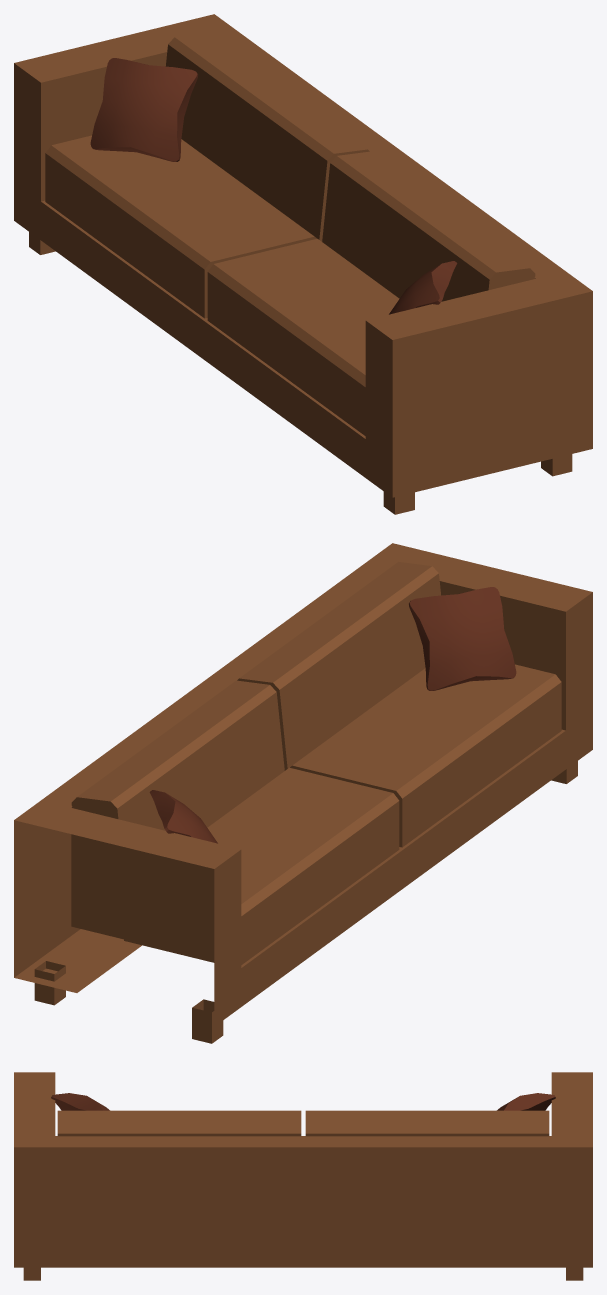
Rendered from Couch.fbx.
3 renders of one model, top to bottom at view 1: azimuth 30°, elevation 25°; view 2: azimuth 150°, elevation 25°; view 3: azimuth 270°, elevation 25°, orthographic. The views are drawn at different scales.
Parts seen in each view (by area): view 1: Couch; view 2: Couch; view 3: Couch.
Part boxes in pixels (<box>): Couch: <box>14,14,592,514</box>; Couch: <box>14,543,592,1043</box>; Couch: <box>14,1072,592,1280</box>.
Bounding box in the file's own units: 32.01 × 29.9 × 105.
